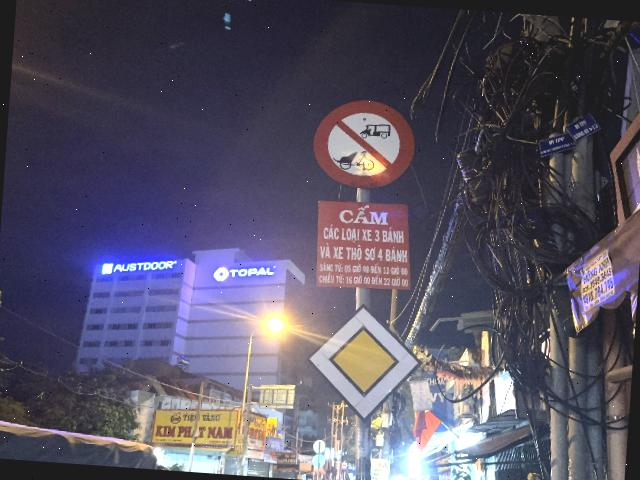bat-dau-duong-uu-tien: (301, 298, 426, 426)
cam-xe-3-banh-xe-tho-so-4-banh: (308, 96, 418, 192)
